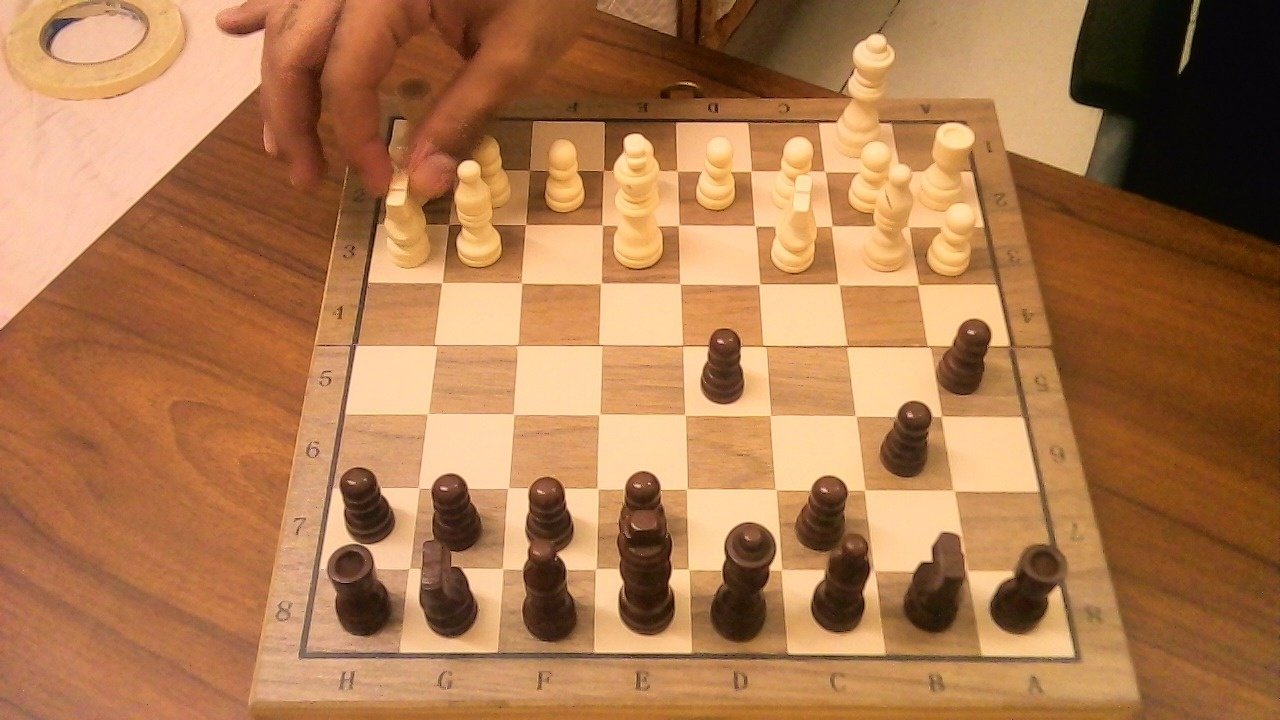B: (855, 154, 923, 278), (449, 148, 513, 270)
K: (606, 123, 674, 271)
N: (385, 125, 445, 268), (763, 163, 830, 277)
P: (841, 132, 906, 219), (922, 194, 985, 279), (459, 125, 518, 213), (764, 128, 822, 215), (688, 127, 744, 215), (536, 130, 591, 216)
Q: (828, 21, 901, 164)
R: (917, 111, 984, 215)
b: (812, 521, 885, 638), (509, 540, 591, 644)
k: (610, 520, 680, 640)
n: (411, 525, 490, 640), (904, 554, 978, 634)
p: (603, 458, 680, 566), (331, 456, 405, 544), (874, 388, 944, 481), (691, 317, 756, 408), (937, 307, 1001, 397), (432, 473, 482, 552), (522, 477, 576, 550), (803, 475, 853, 550)
q: (701, 509, 790, 647)
r: (984, 531, 1076, 638), (322, 533, 402, 639)
